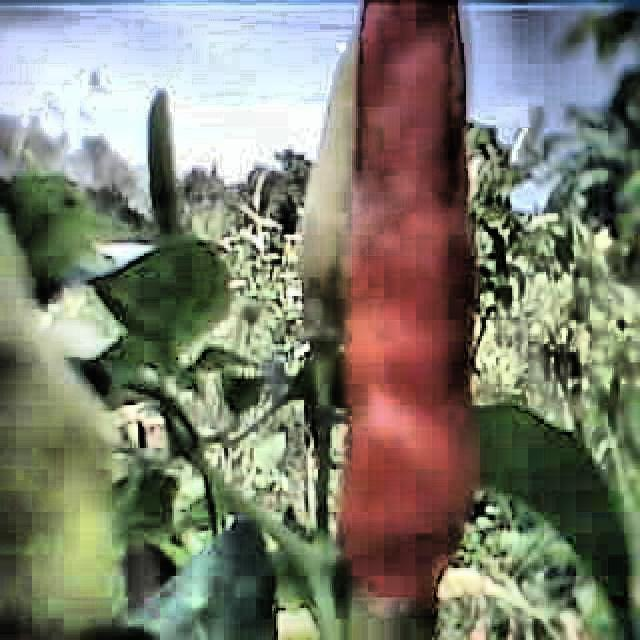Cabai: (359, 0, 473, 581)
